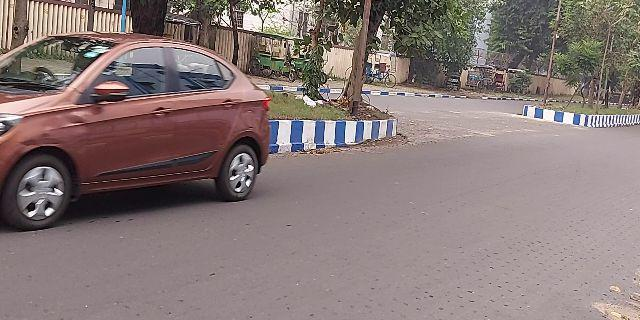Car: (1, 34, 272, 217)
